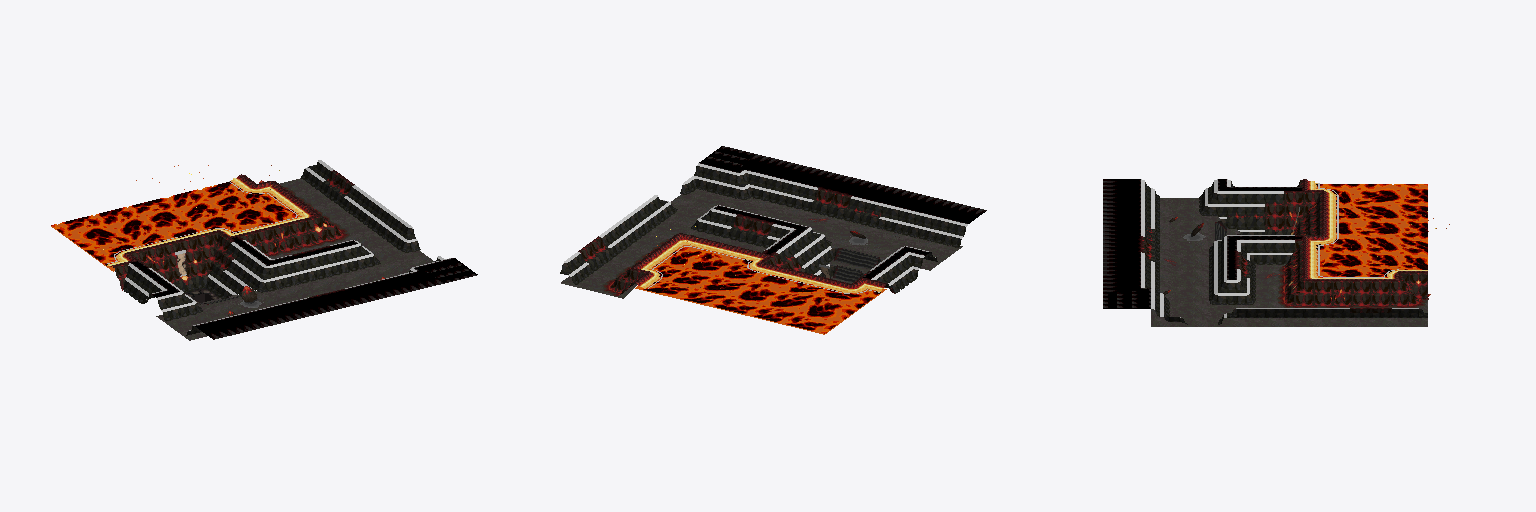
The picture shows the model from 3 angles: view 1: azimuth 30°, elevation 25°; view 2: azimuth 150°, elevation 25°; view 3: azimuth 270°, elevation 25°; orthographic projection.
Visible parts, largest first — view 1: polygon0, polygon1, polygon29, polygon5, polygon18, polygon32, polygon31, polygon20, polygon27, polygon33, polygon24; view 2: polygon1, polygon0, polygon29, polygon32, polygon5, polygon31, polygon20, polygon18, polygon23, polygon2, polygon27, polygon25 (+1 smaller); view 3: polygon1, polygon0, polygon29, polygon18, polygon5, polygon32, polygon31, polygon20, polygon27, polygon33, polygon34, polygon19 (+1 smaller).
Boxes of the visible parts, <box> form: polygon0: <box>51,181,299,265</box>; polygon1: <box>156,178,434,340</box>; polygon29: <box>130,240,477,339</box>; polygon5: <box>126,162,415,330</box>; polygon18: <box>115,172,351,290</box>; polygon32: <box>123,169,440,335</box>; polygon31: <box>125,160,450,330</box>; polygon20: <box>51,183,301,271</box>; polygon27: <box>113,170,354,297</box>; polygon33: <box>118,218,335,280</box>; polygon24: <box>108,178,307,265</box>; polygon1: <box>561,189,962,298</box>; polygon0: <box>639,247,880,333</box>; polygon29: <box>699,146,986,279</box>; polygon32: <box>571,179,961,293</box>; polygon5: <box>560,166,965,282</box>; polygon31: <box>563,163,967,285</box>; polygon20: <box>635,245,886,334</box>; polygon18: <box>581,190,894,294</box>; polygon23: <box>636,235,885,288</box>; polygon2: <box>833,248,879,281</box>; polygon27: <box>578,188,887,284</box>; polygon25: <box>642,242,881,292</box>; polygon1: <box>1151,198,1427,326</box>; polygon0: <box>1316,184,1427,277</box>; polygon29: <box>1103,179,1303,308</box>; polygon18: <box>1145,182,1427,312</box>; polygon5: <box>1145,181,1427,316</box>; polygon32: <box>1155,190,1427,324</box>; polygon31: <box>1141,179,1418,317</box>; polygon20: <box>1316,185,1427,276</box>; polygon27: <box>1141,179,1427,308</box>; polygon33: <box>1265,204,1427,295</box>; polygon34: <box>1145,194,1283,243</box>; polygon19: <box>1277,265,1428,307</box>.
Size of the model in its own units: 8.09 by 2.82 by 9.25.
Materials: 35 (32 with a texture image).